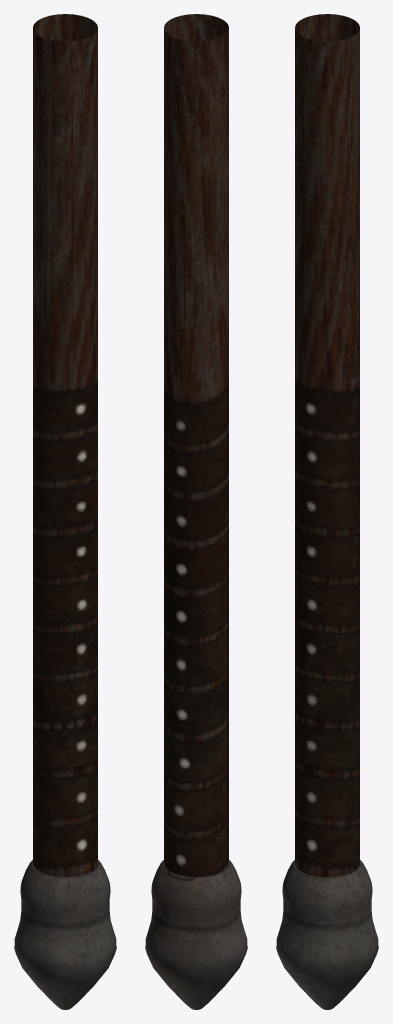
Rendered from wm_dol_goldur_1h_mace_a01_handle.fbx.
The picture shows the model from 3 angles, left to right: view 1: azimuth 30°, elevation 25°; view 2: azimuth 150°, elevation 25°; view 3: azimuth 330°, elevation 25°; orthographic projection.
Visible parts, largest first — view 1: wm_dol_goldur_1h_mace_a01_handle; view 2: wm_dol_goldur_1h_mace_a01_handle; view 3: wm_dol_goldur_1h_mace_a01_handle.
Boxes of the visible parts, left/top/right/bottom form: wm_dol_goldur_1h_mace_a01_handle: left=14, top=14, right=116, bottom=1009; wm_dol_goldur_1h_mace_a01_handle: left=145, top=14, right=247, bottom=1009; wm_dol_goldur_1h_mace_a01_handle: left=276, top=14, right=378, bottom=1009.
Size of the model in its own units: 0.0514 by 0.0514 by 0.5444.
Materials: 1 (1 with a texture image).
